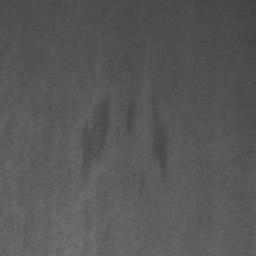Inclusion: (79, 100, 111, 169), (152, 124, 169, 170)
